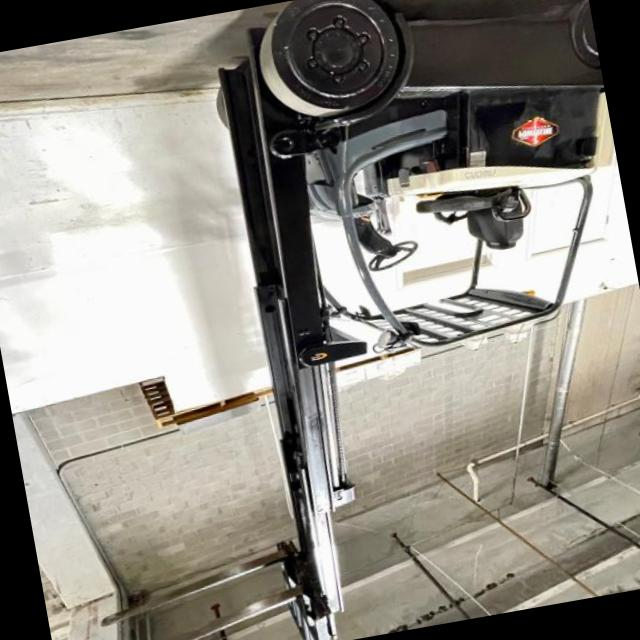forklift: (95, 0, 640, 419)
